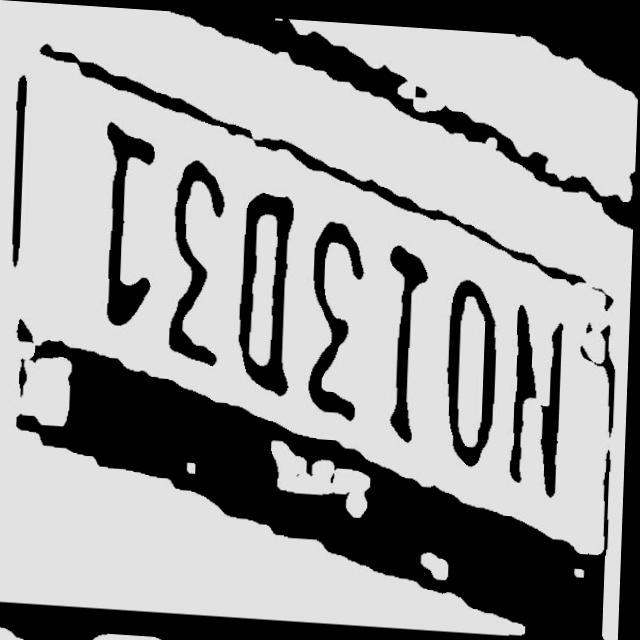1: (98, 118, 160, 330)
3: (167, 152, 231, 368), (307, 213, 374, 417)
d: (236, 181, 301, 393)
i: (379, 235, 438, 447)
n: (507, 288, 572, 498)
o: (444, 262, 507, 471)
